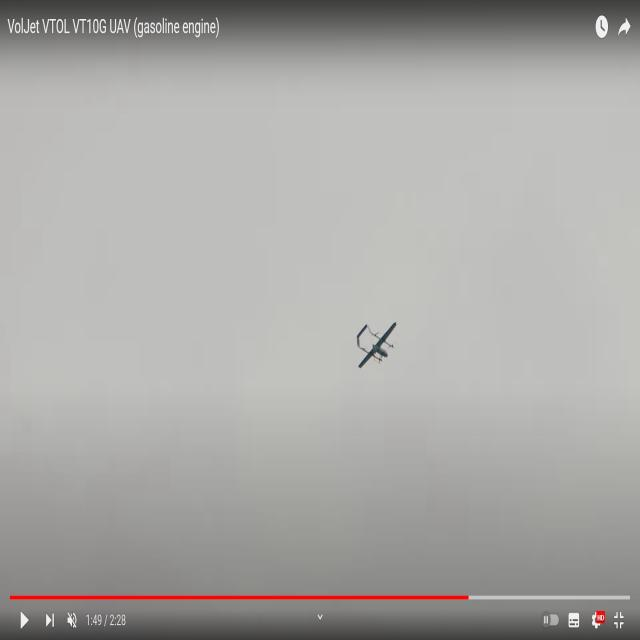iha: (356, 323, 398, 369)
